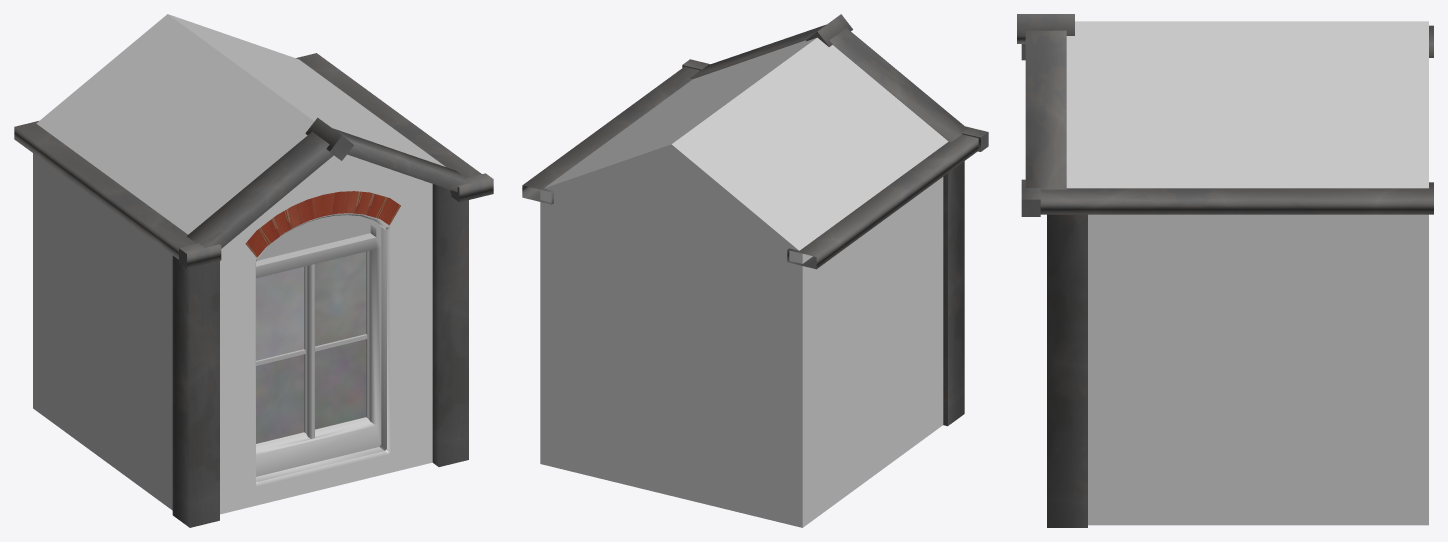
The model's file is Roof_Window_01.fbx.
The picture shows the model from 3 angles, left to right: view 1: azimuth 30°, elevation 25°; view 2: azimuth 150°, elevation 25°; view 3: azimuth 270°, elevation 25°; orthographic projection. The views are drawn at different scales.
Visible parts, largest first — view 1: Roof_Window_01, Column_02.001, Trim_05.002; view 2: Roof_Window_01, Trim_05.002, Column_02.001; view 3: Roof_Window_01, Trim_05.002, Column_02.001.
Boxes of the visible parts, <box> form: Roof_Window_01: <box>33,14,445,514</box>; Column_02.001: <box>172,184,468,527</box>; Trim_05.002: <box>14,53,493,268</box>; Roof_Window_01: <box>540,37,948,527</box>; Trim_05.002: <box>522,14,988,269</box>; Column_02.001: <box>943,161,964,426</box>; Roof_Window_01: <box>1066,21,1428,525</box>; Trim_05.002: <box>1017,14,1433,216</box>; Column_02.001: <box>1047,214,1087,527</box>.
Size of what is drawn, in the model's own units: 2.54 by 2.91 by 2.53.
